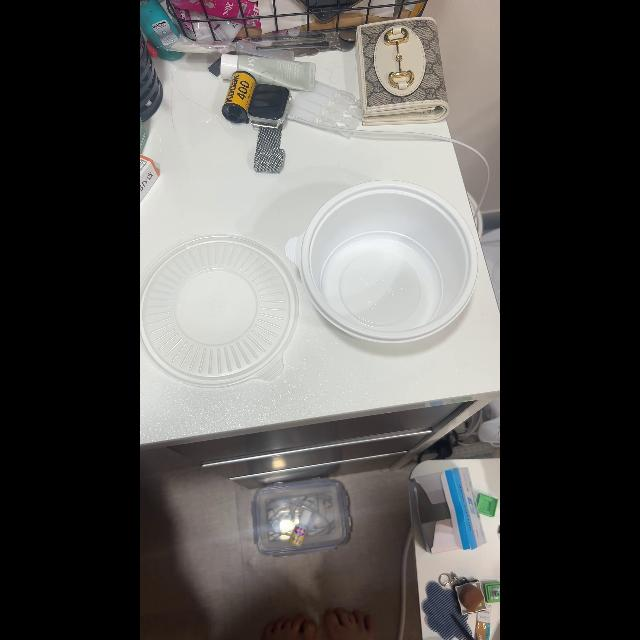clean: (304, 189, 474, 353), (147, 238, 299, 392)
